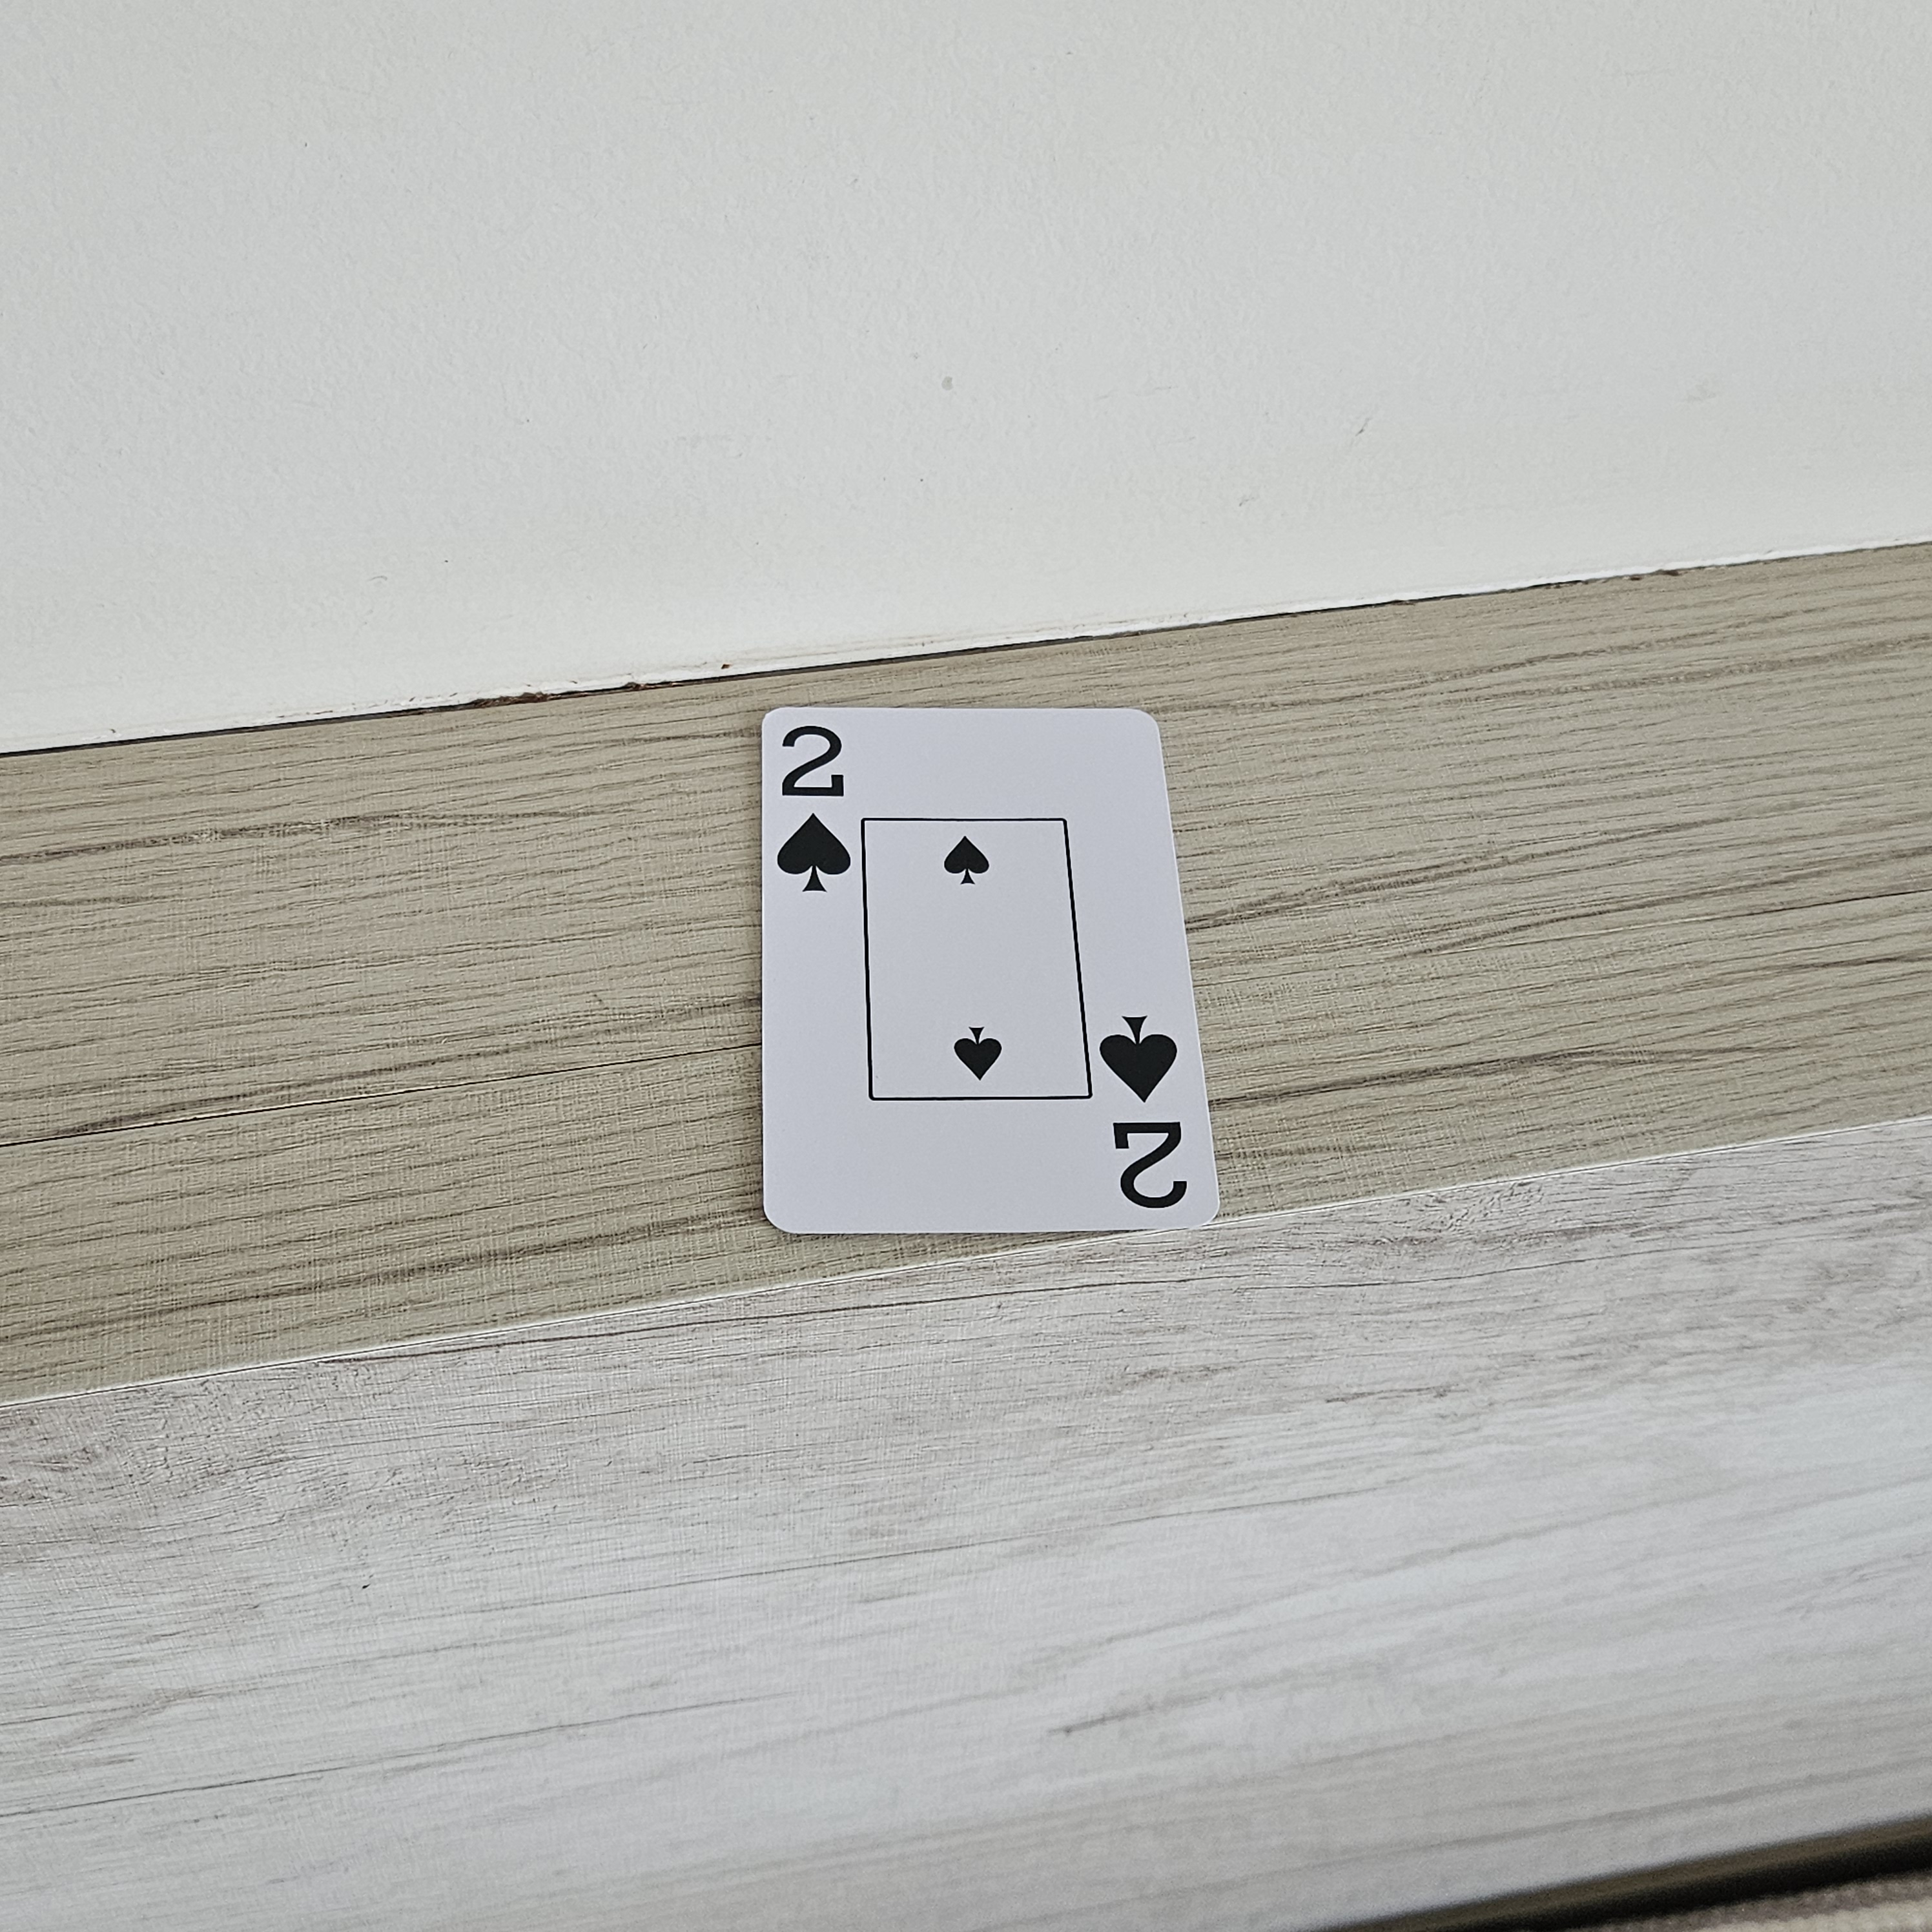2E: (1093, 1000, 1200, 1217), (766, 713, 858, 897)
